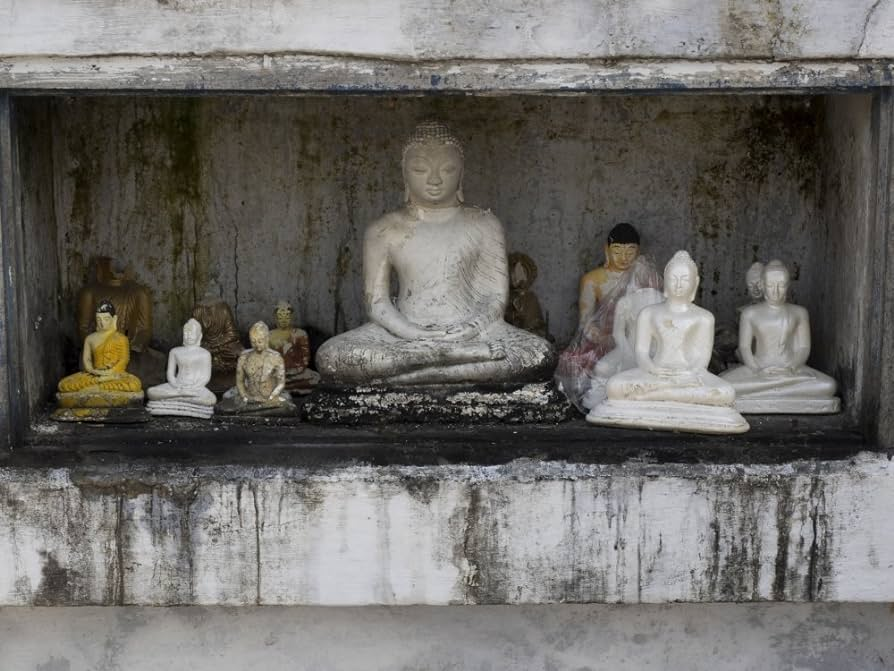body: (312, 206, 553, 385), (605, 303, 739, 413), (56, 330, 143, 395), (220, 352, 299, 415), (145, 348, 218, 406)
head: (398, 115, 471, 206), (660, 249, 702, 302), (601, 224, 644, 269), (761, 256, 791, 301), (178, 317, 204, 347), (246, 321, 271, 352), (94, 299, 118, 331)
